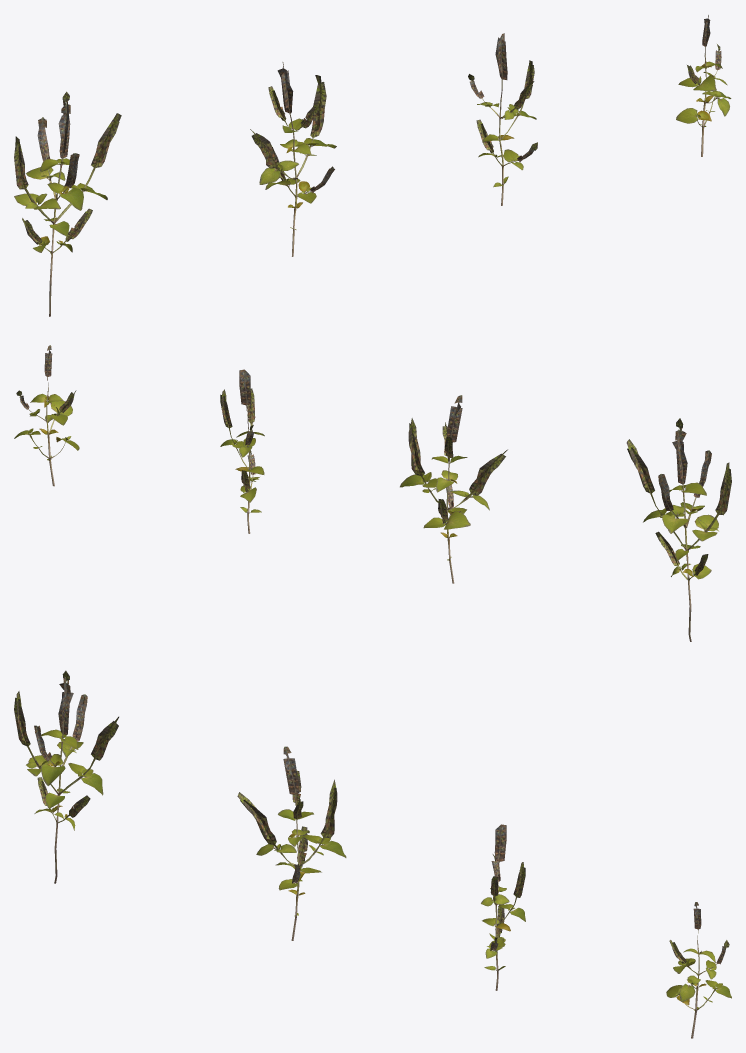
File: shrub_03.glb
The picture shows the model from 3 angles, top to bottom: view 1: azimuth 30°, elevation 25°; view 2: azimuth 150°, elevation 25°; view 3: azimuth 330°, elevation 25°; orthographic projection. The views are drawn at different scales.
Parts seen in each view (by area): view 1: shrub_03_a, shrub_03_b, shrub_03_c, shrub_03_d; view 2: shrub_03_a, shrub_03_b, shrub_03_c, shrub_03_d; view 3: shrub_03_a, shrub_03_b, shrub_03_c, shrub_03_d.
Boxes of the visible parts, bbox=[...] form: shrub_03_a: bbox=[14, 91, 121, 316]; shrub_03_b: bbox=[250, 62, 336, 256]; shrub_03_c: bbox=[468, 33, 537, 205]; shrub_03_d: bbox=[676, 15, 731, 156]; shrub_03_a: bbox=[626, 418, 731, 641]; shrub_03_b: bbox=[400, 395, 507, 583]; shrub_03_c: bbox=[220, 369, 264, 533]; shrub_03_d: bbox=[14, 345, 79, 486]; shrub_03_a: bbox=[14, 670, 118, 883]; shrub_03_b: bbox=[237, 746, 346, 940]; shrub_03_c: bbox=[481, 824, 525, 990]; shrub_03_d: bbox=[666, 902, 731, 1038].
Bounding box in the file's own units: 1.37 × 0.4028 × 0.1512.
Materials: 1 (1 with a texture image).
